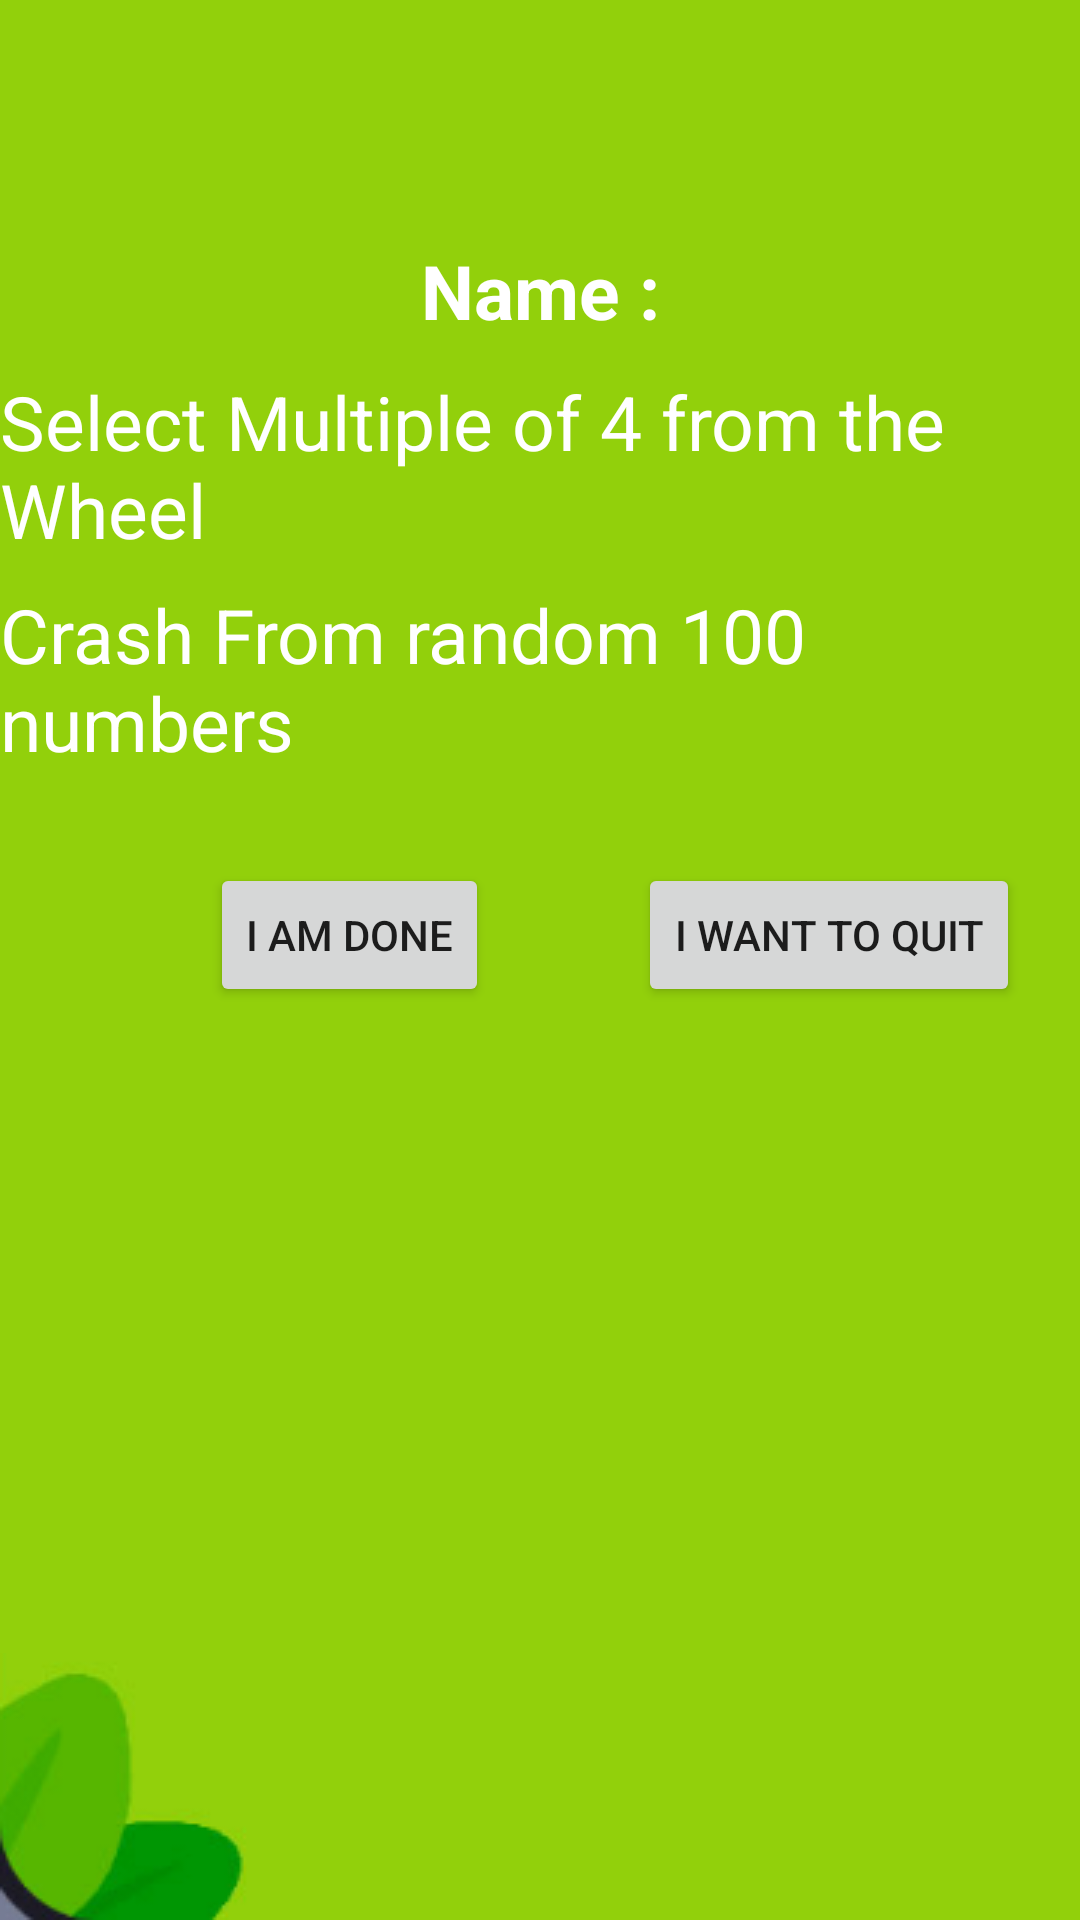

Point at icon controls on the screen. Image size 1080px x 1920px, points as point (x, y).
leafs: point (121, 1797)
